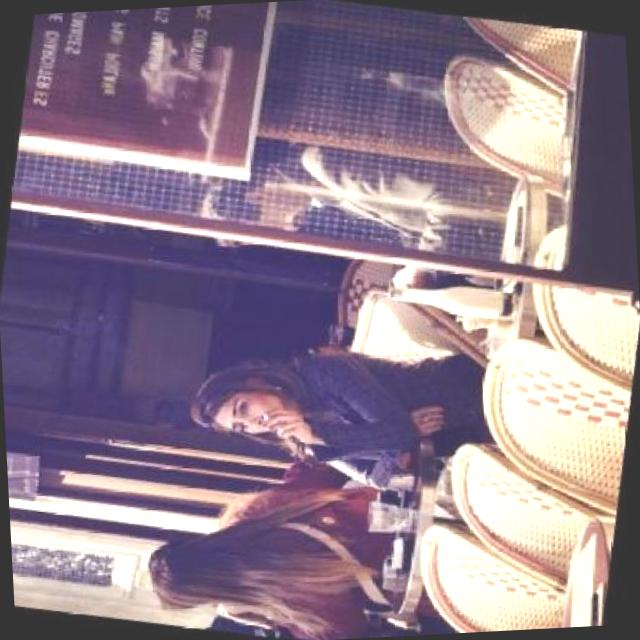cigarette: (263, 412, 273, 422)
